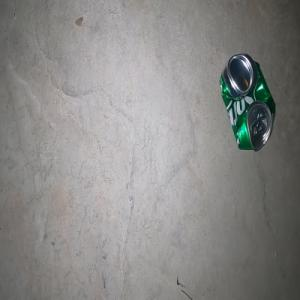SodaCan: (219, 53, 275, 151)
